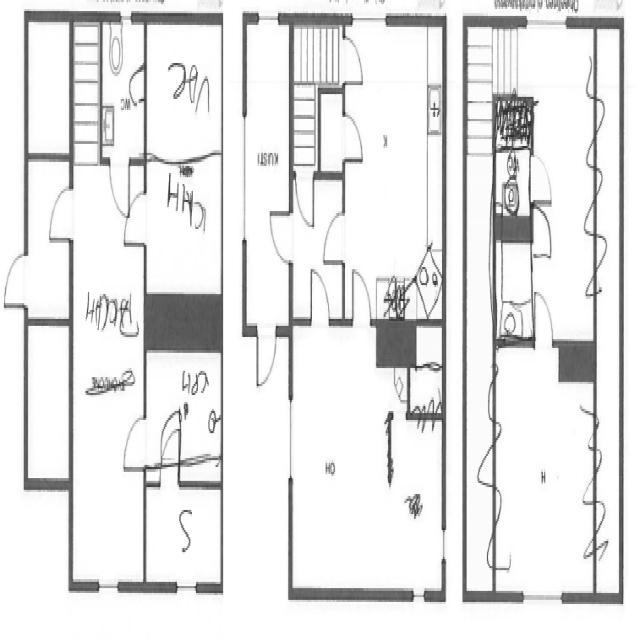door: (524, 89, 582, 283), (46, 182, 76, 250), (267, 199, 295, 270), (120, 408, 149, 476), (2, 246, 30, 314), (108, 147, 133, 221), (528, 144, 555, 210), (254, 320, 278, 391), (123, 183, 148, 250), (322, 206, 348, 268), (293, 167, 317, 232), (349, 263, 372, 330), (159, 406, 182, 472), (531, 286, 555, 348), (341, 106, 365, 166), (308, 261, 330, 324), (340, 31, 364, 87), (528, 202, 552, 255)
window: (238, 102, 251, 250), (517, 582, 566, 616), (522, 2, 572, 35), (350, 2, 389, 30), (94, 567, 122, 602), (286, 394, 296, 486), (173, 574, 200, 600), (254, 4, 282, 28), (409, 581, 430, 609), (116, 4, 136, 30), (439, 523, 449, 568)
zone: (288, 324, 447, 599), (342, 16, 446, 325), (74, 147, 142, 589), (455, 22, 599, 228), (493, 348, 597, 600), (532, 22, 594, 351), (244, 22, 292, 325), (145, 159, 222, 318), (146, 16, 221, 161), (146, 334, 222, 477), (146, 472, 224, 588), (26, 319, 70, 483), (101, 13, 145, 162), (26, 10, 71, 154), (495, 214, 533, 346), (318, 88, 344, 178)
